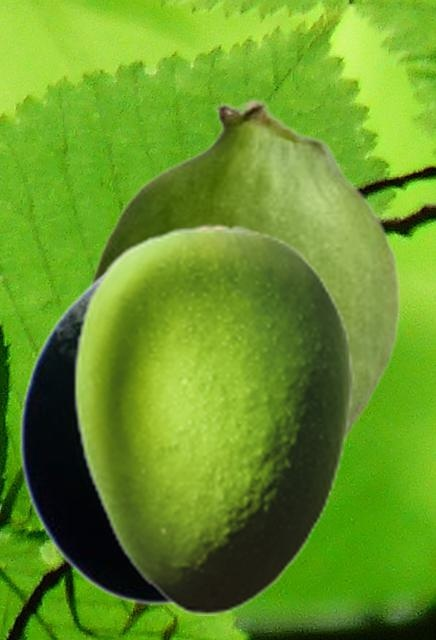green_mango: (18, 248, 346, 604), (72, 223, 353, 614), (84, 97, 400, 438)
